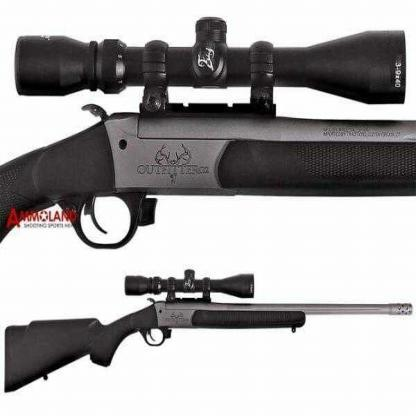rifle: (0, 8, 415, 265), (1, 265, 414, 413)
